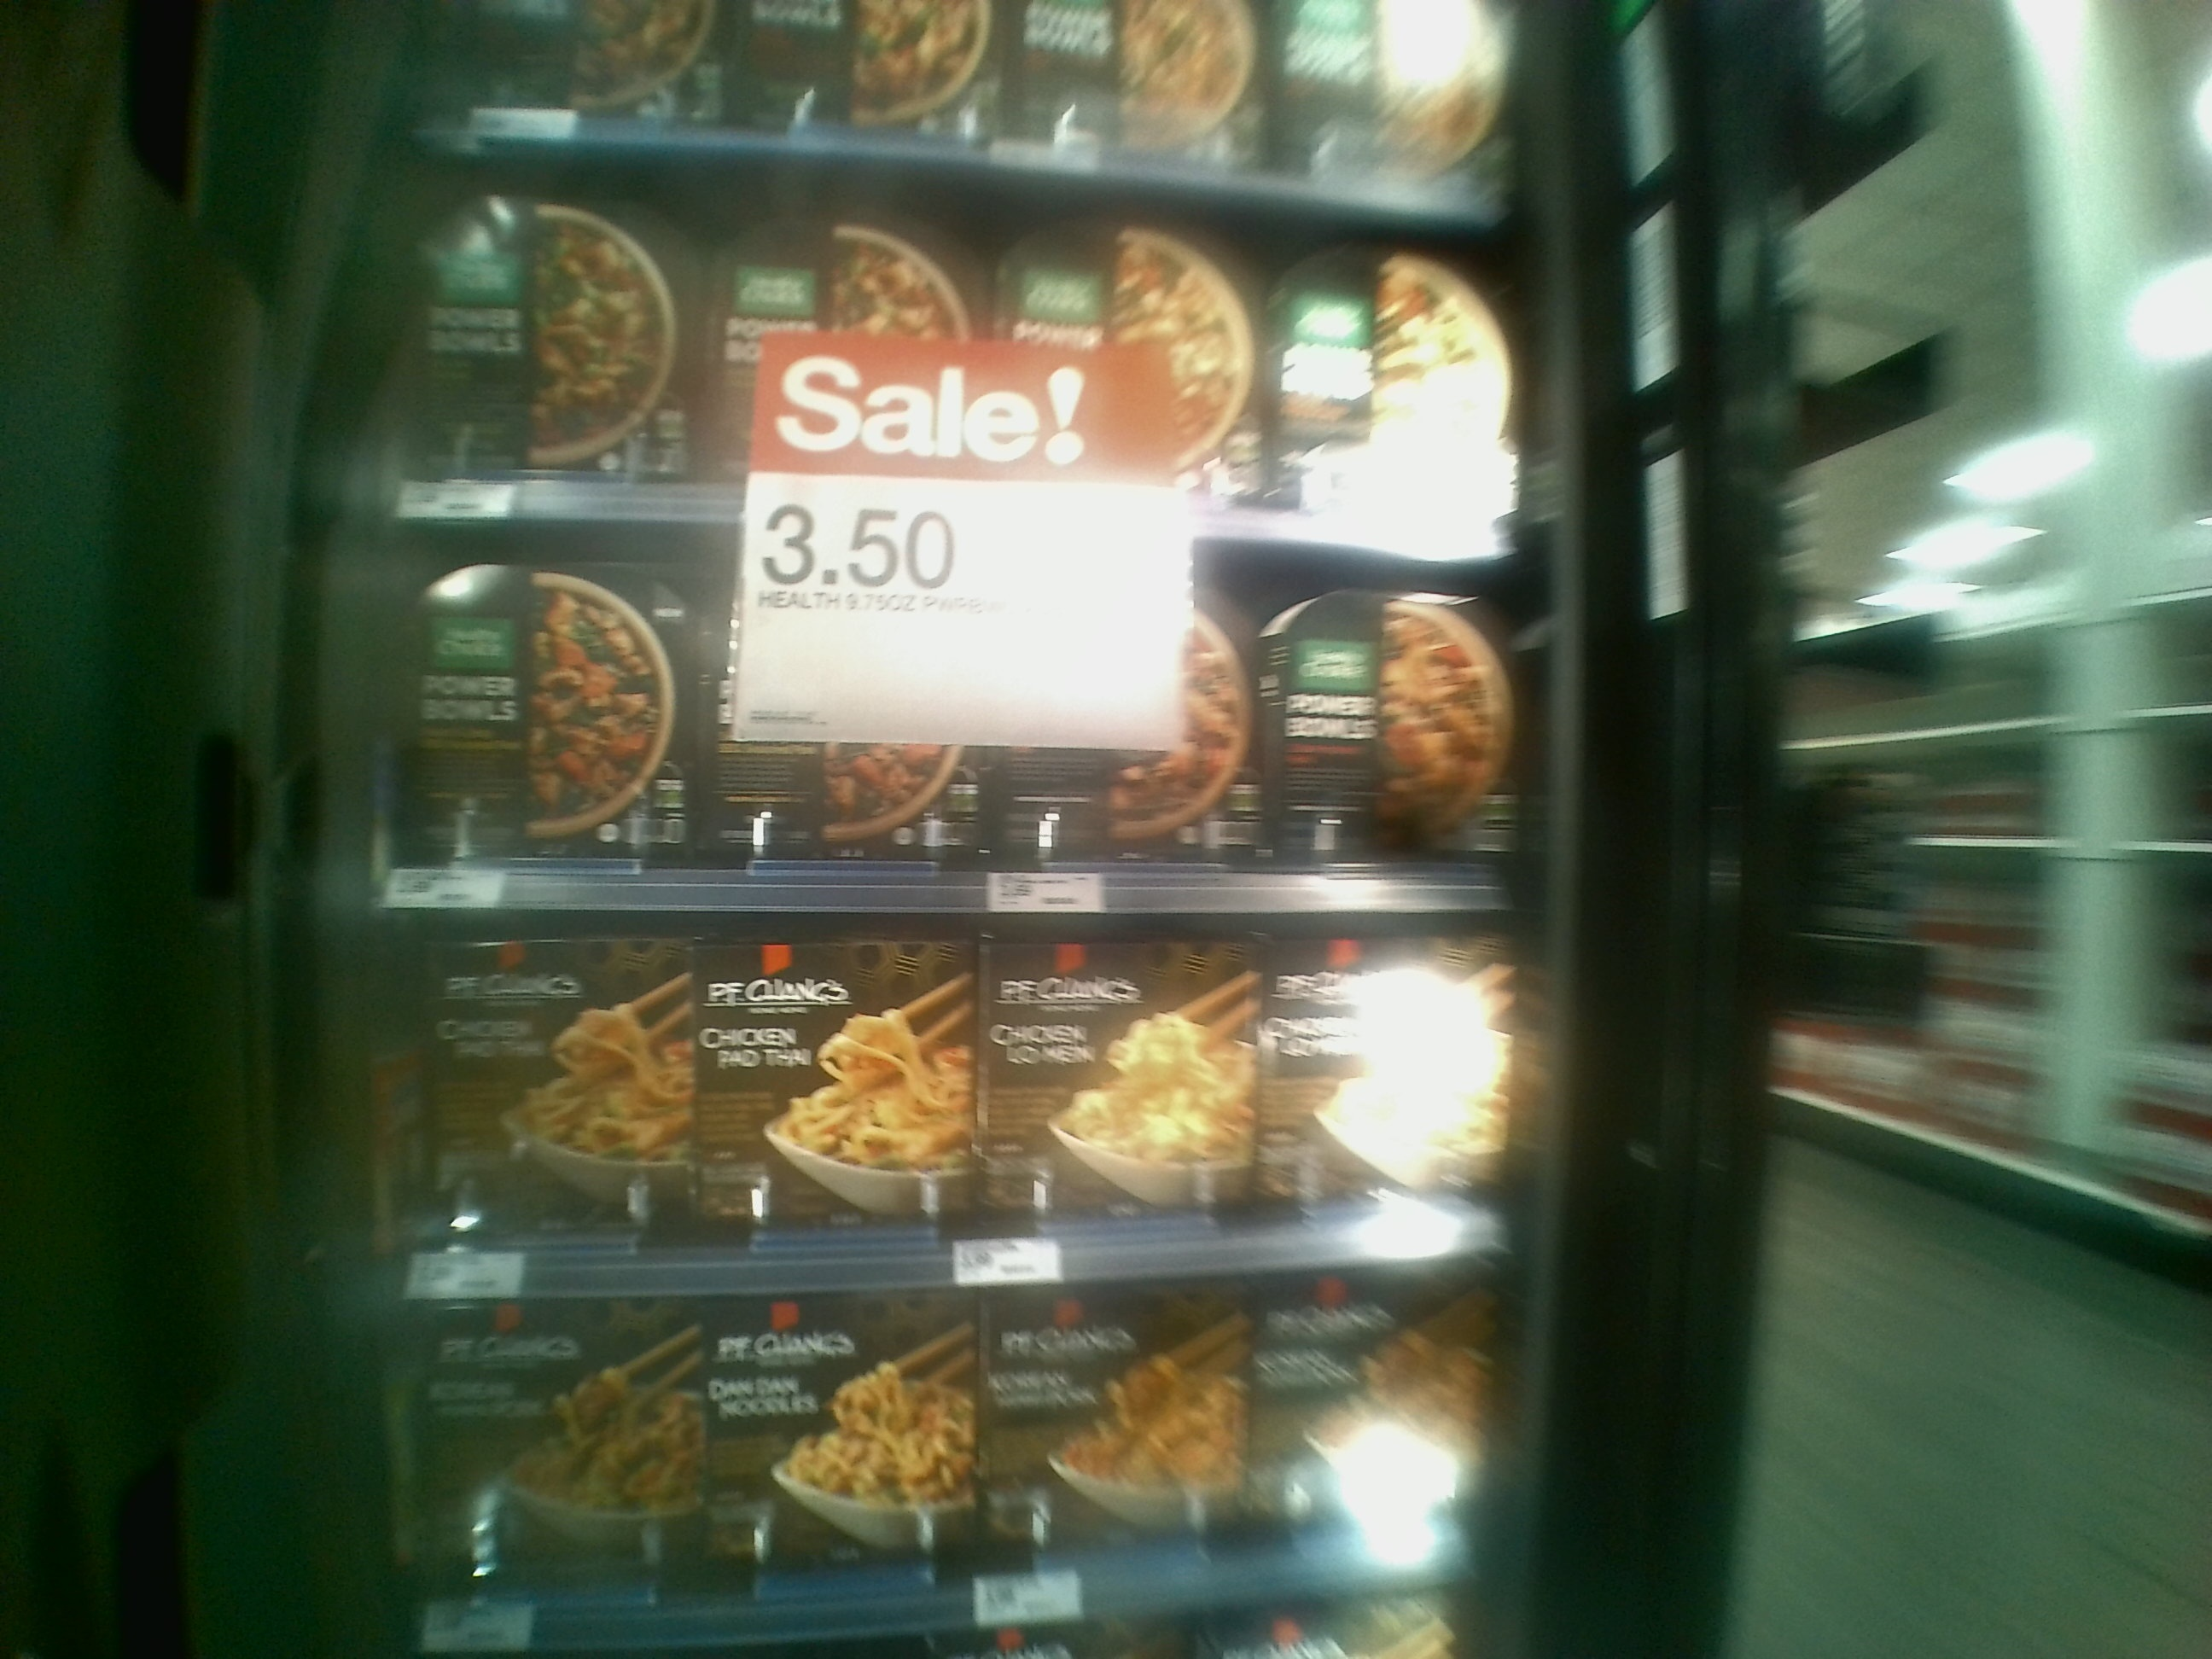shelf: (381, 505, 1548, 924), (378, 148, 1543, 558), (388, 892, 1538, 1297)
